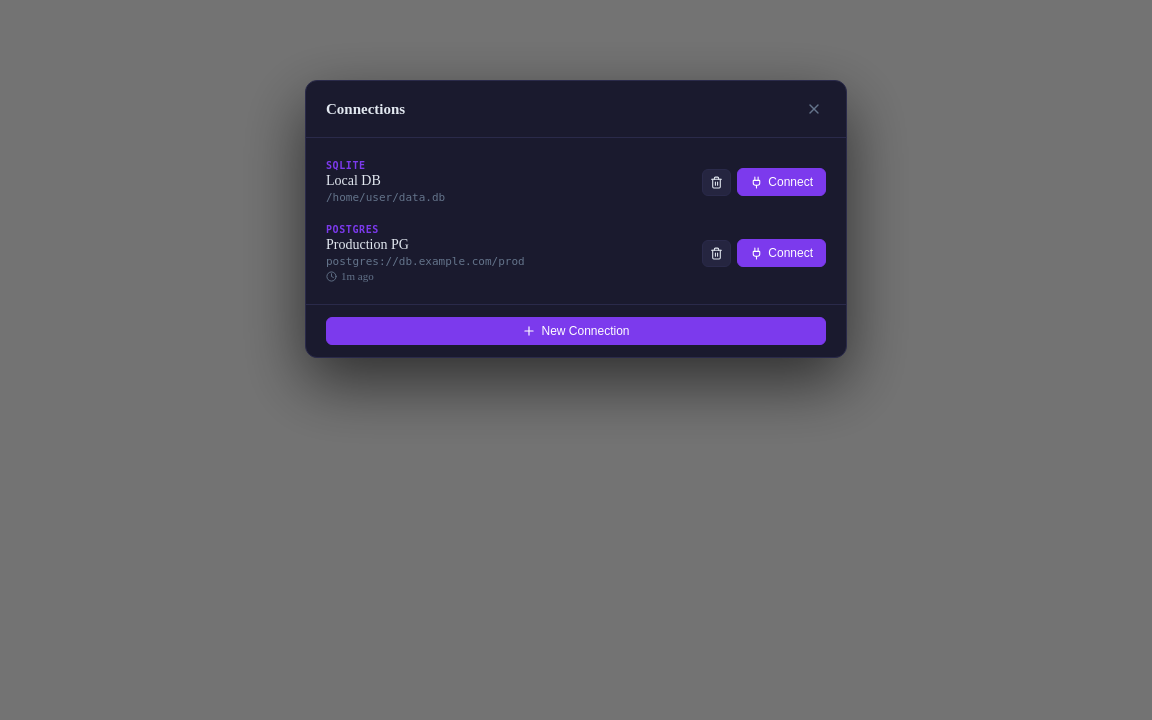
Test case: ConnectionManager › shows error when connect fails
Expected: the text "Local DB" is shown, [326,173,381,188]
Click the button "Connect" in the row of "sqlite": (782, 182) [737,168,826,196]
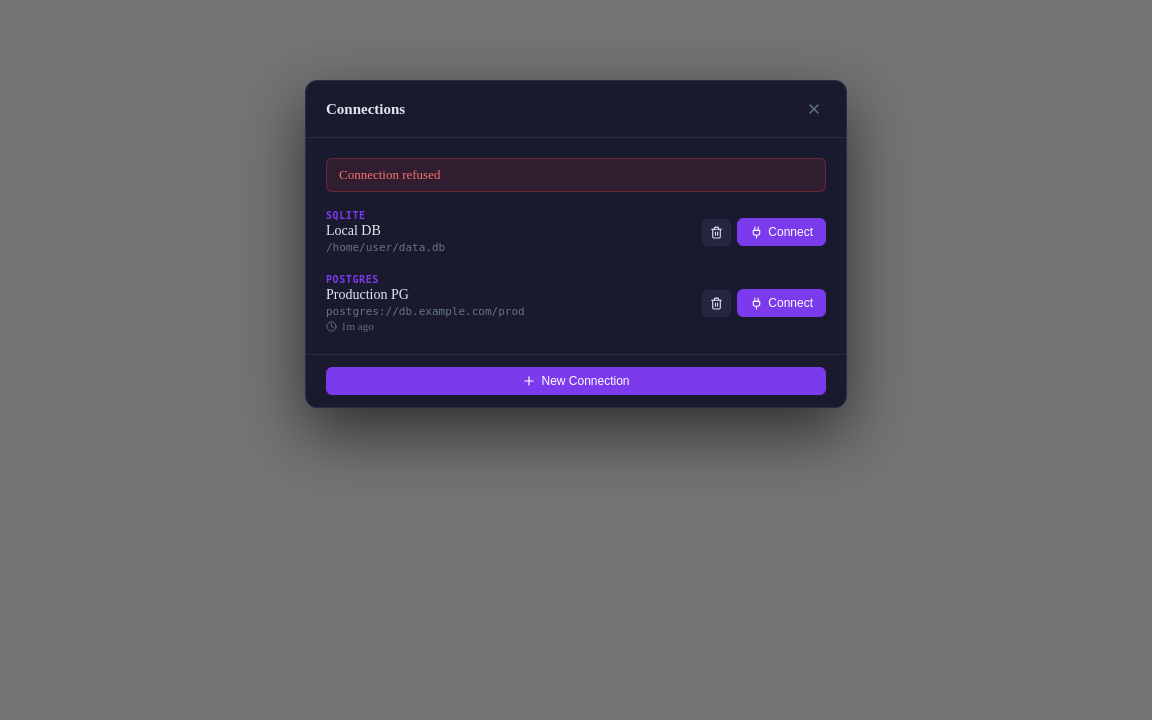
Now the text "Connection refused" is shown, box [326,158,826,192]
